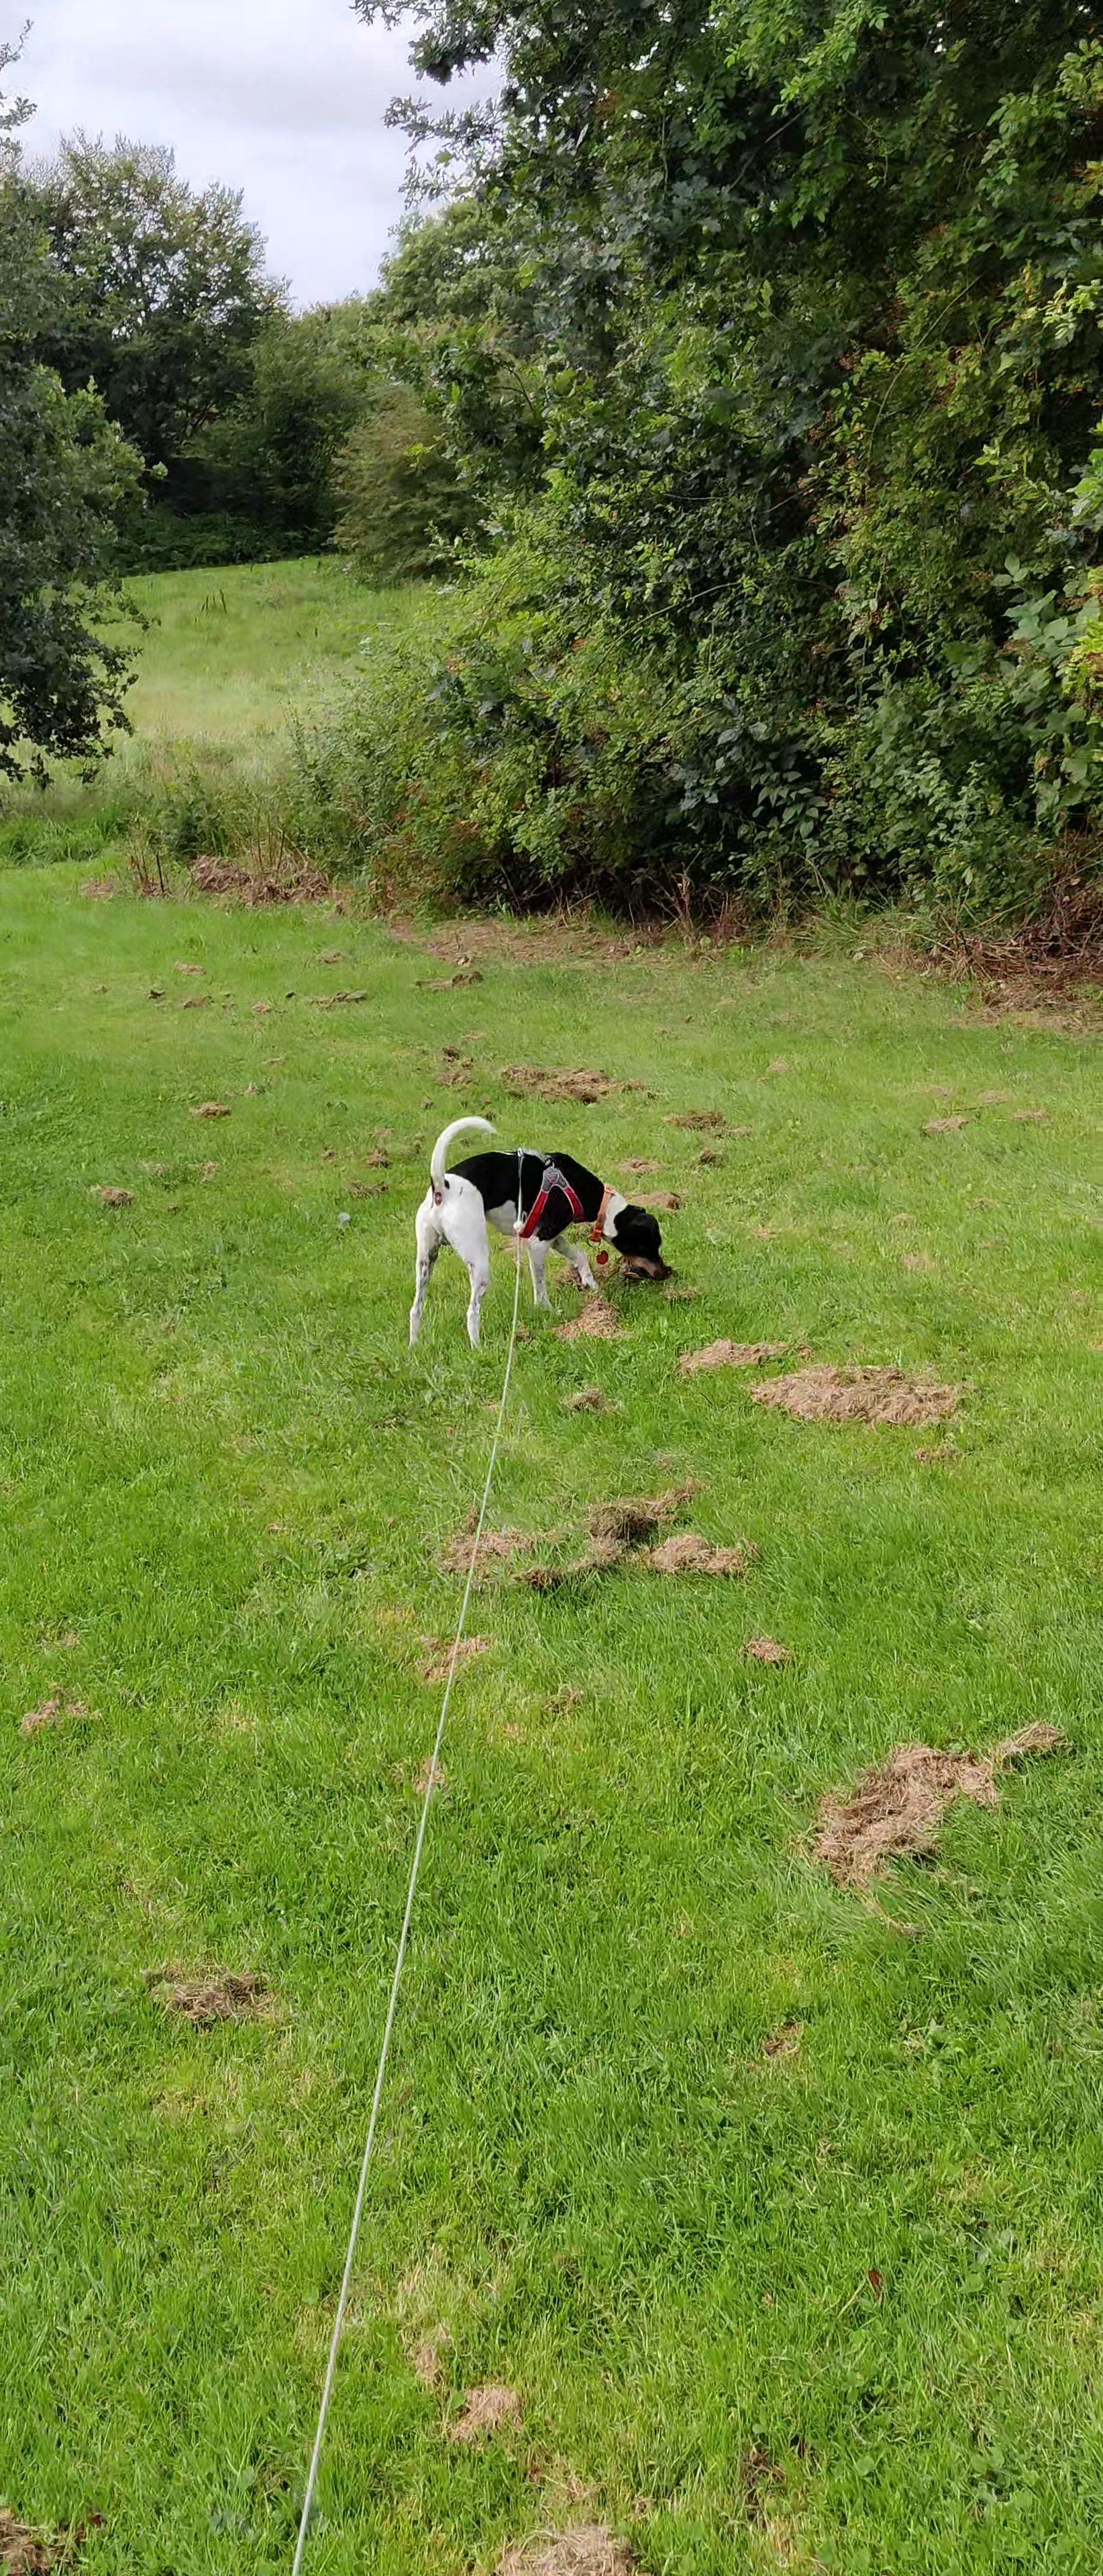Dog: (381, 1101, 689, 1360)
